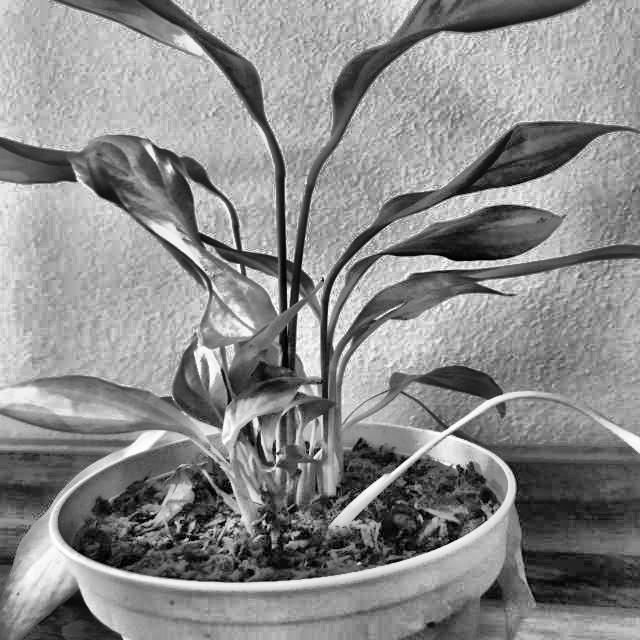plants: (9, 3, 640, 640), (342, 370, 639, 639), (67, 136, 286, 336)
